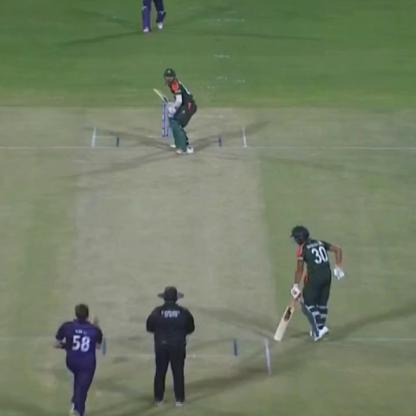bat: (275, 287, 304, 349), (149, 82, 177, 119)
pitch: (74, 123, 278, 381)
